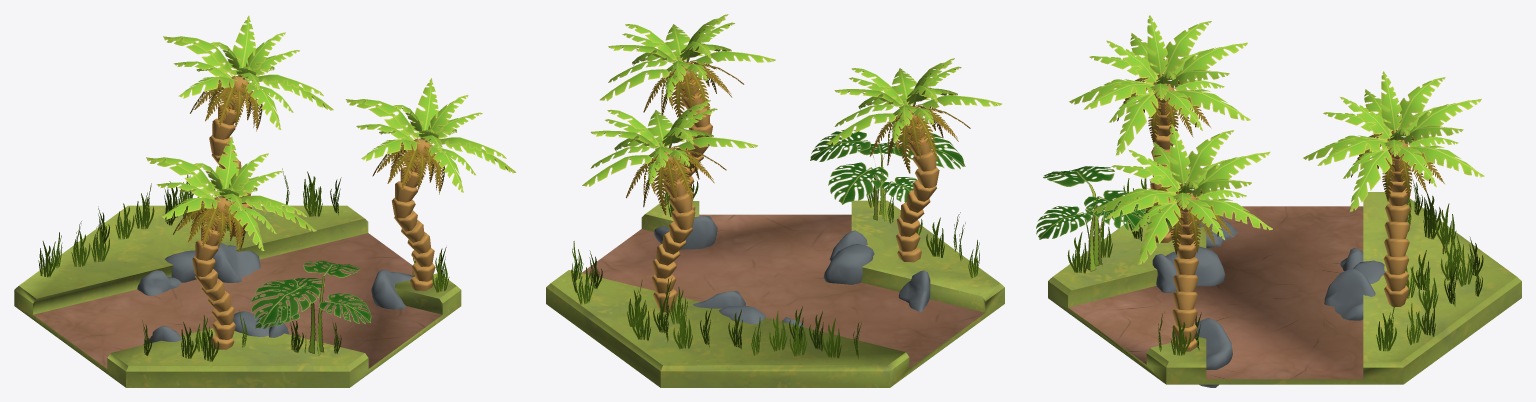
File: HexTile6.fbx
3 renders of one model, left to right at view 1: azimuth 30°, elevation 25°; view 2: azimuth 150°, elevation 25°; view 3: azimuth 270°, elevation 25°, orthographic. The views are drawn at different scales.
Parts seen in each view (by area): view 1: Terrain_01.012, normalPalm2.002, normalPalm2.001, normalPalm2.003, grass2.031, rock1.001, monsteraPlant.001; view 2: Terrain_01.012, normalPalm2.003, normalPalm2.002, normalPalm2.001, grass2.031, rock1.001, monsteraPlant.001; view 3: Terrain_01.012, normalPalm2.003, normalPalm2.001, normalPalm2.002, grass2.031, rock1.001, monsteraPlant.001.
Part boxes in pixels (x1,y1,x2,y2): Terrain_01.012: (14, 205, 461, 387); normalPalm2.002: (146, 136, 316, 349); normalPalm2.001: (345, 78, 516, 290); normalPalm2.003: (163, 15, 333, 236); grass2.031: (38, 168, 449, 361); rock1.001: (137, 243, 412, 344); monsteraPlant.001: (250, 260, 371, 355); Terrain_01.012: (546, 200, 1004, 387); normalPalm2.003: (582, 100, 757, 312); normalPalm2.002: (826, 58, 1001, 262); normalPalm2.001: (600, 14, 775, 210); grass2.031: (571, 175, 979, 359); rock1.001: (654, 216, 930, 327); monsteraPlant.001: (810, 129, 965, 221); Terrain_01.012: (1048, 192, 1521, 384); normalPalm2.003: (1303, 71, 1484, 306); normalPalm2.001: (1091, 124, 1272, 351); normalPalm2.002: (1069, 15, 1250, 242); grass2.031: (1067, 178, 1483, 355); rock1.001: (1152, 216, 1385, 387); monsteraPlant.001: (1036, 166, 1171, 271).
Bounding box in the file's own units: 1951 × 1212 × 2063.
